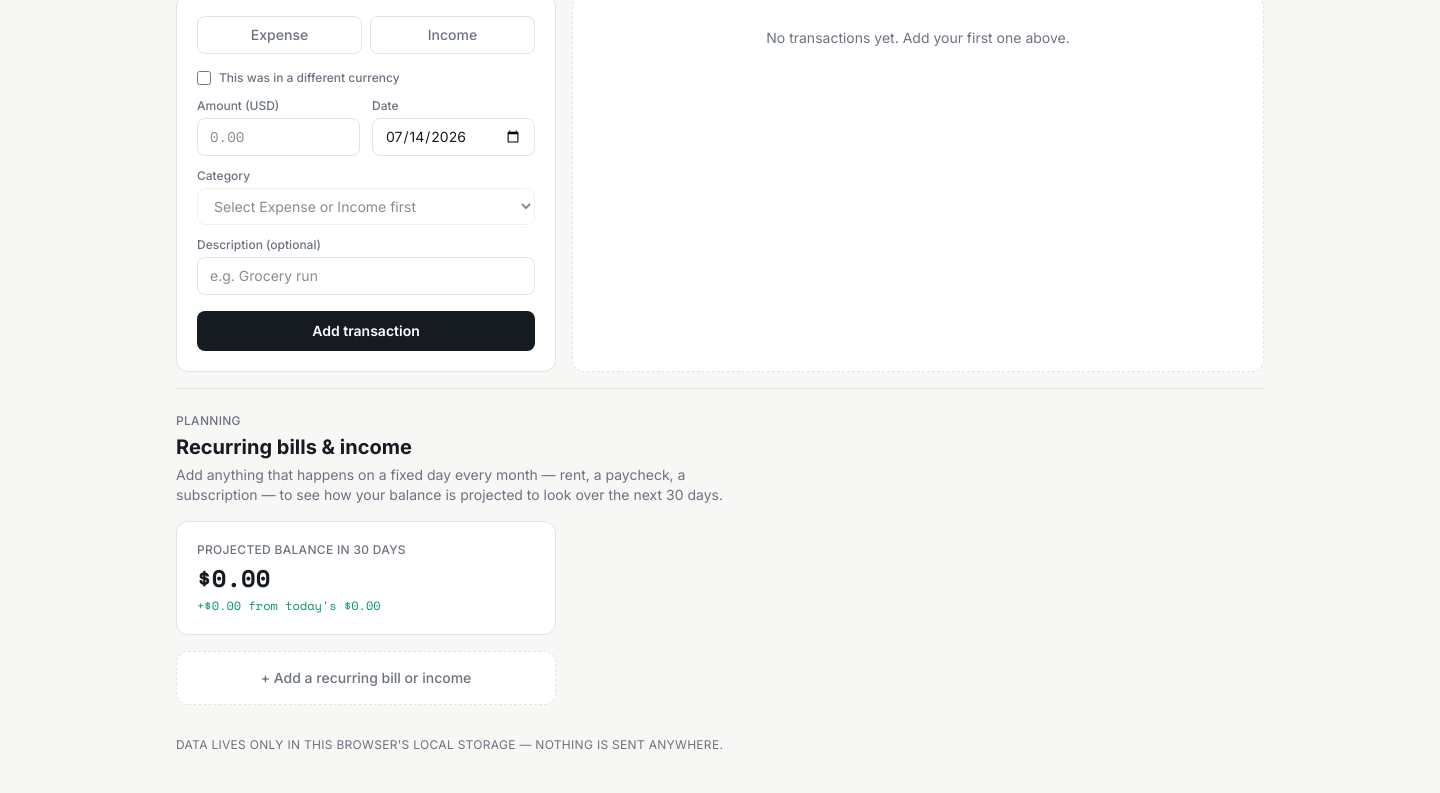
Test: App — planning › requires a type to be selected before adding a recurring item
(page scrolled)
Click the button "+ Add a recurring bill or income" at (366, 678), box [176,651,556,705]
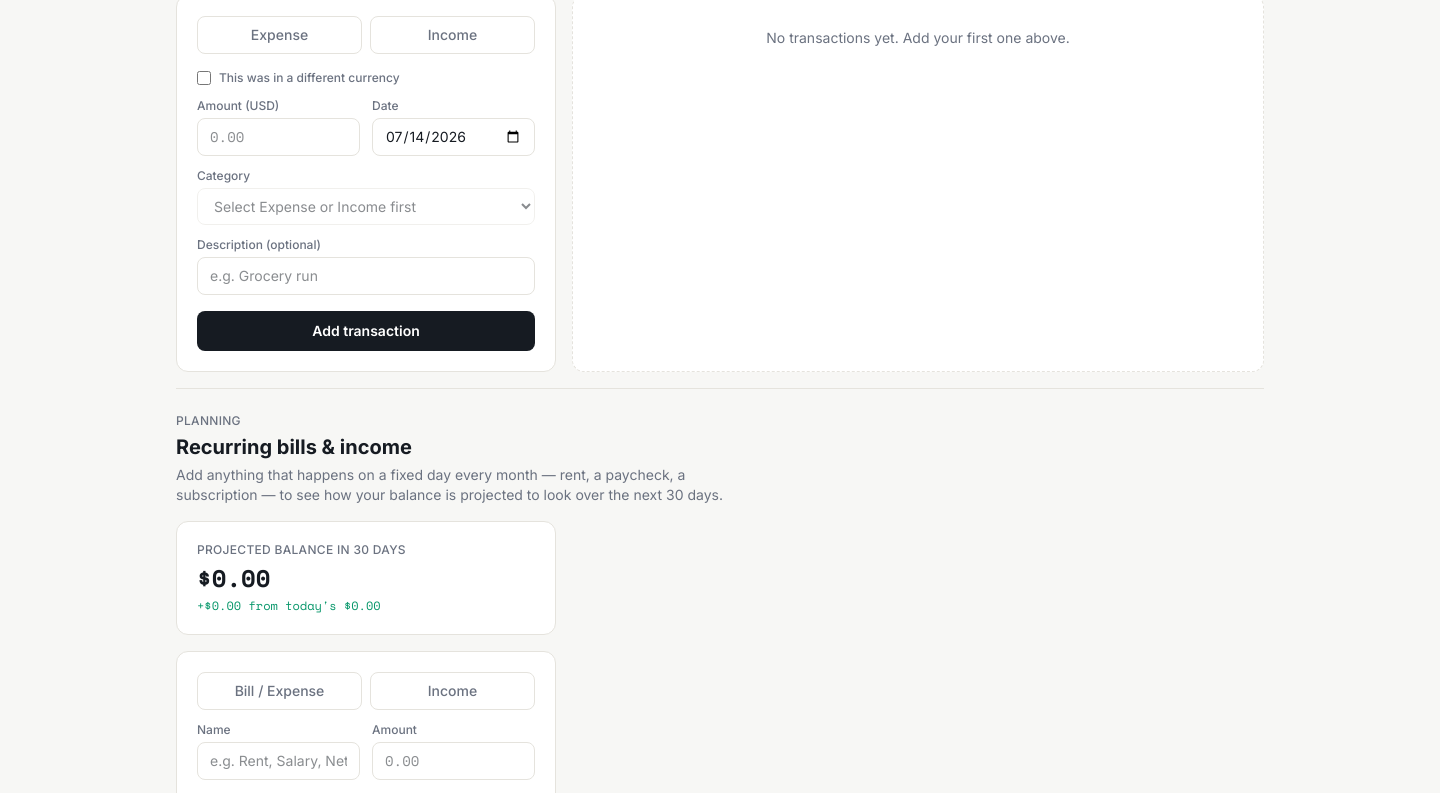
Type "50" into the number field labelled "Amount" at (454, 761), box [372,742,535,780]
(page scrolled)
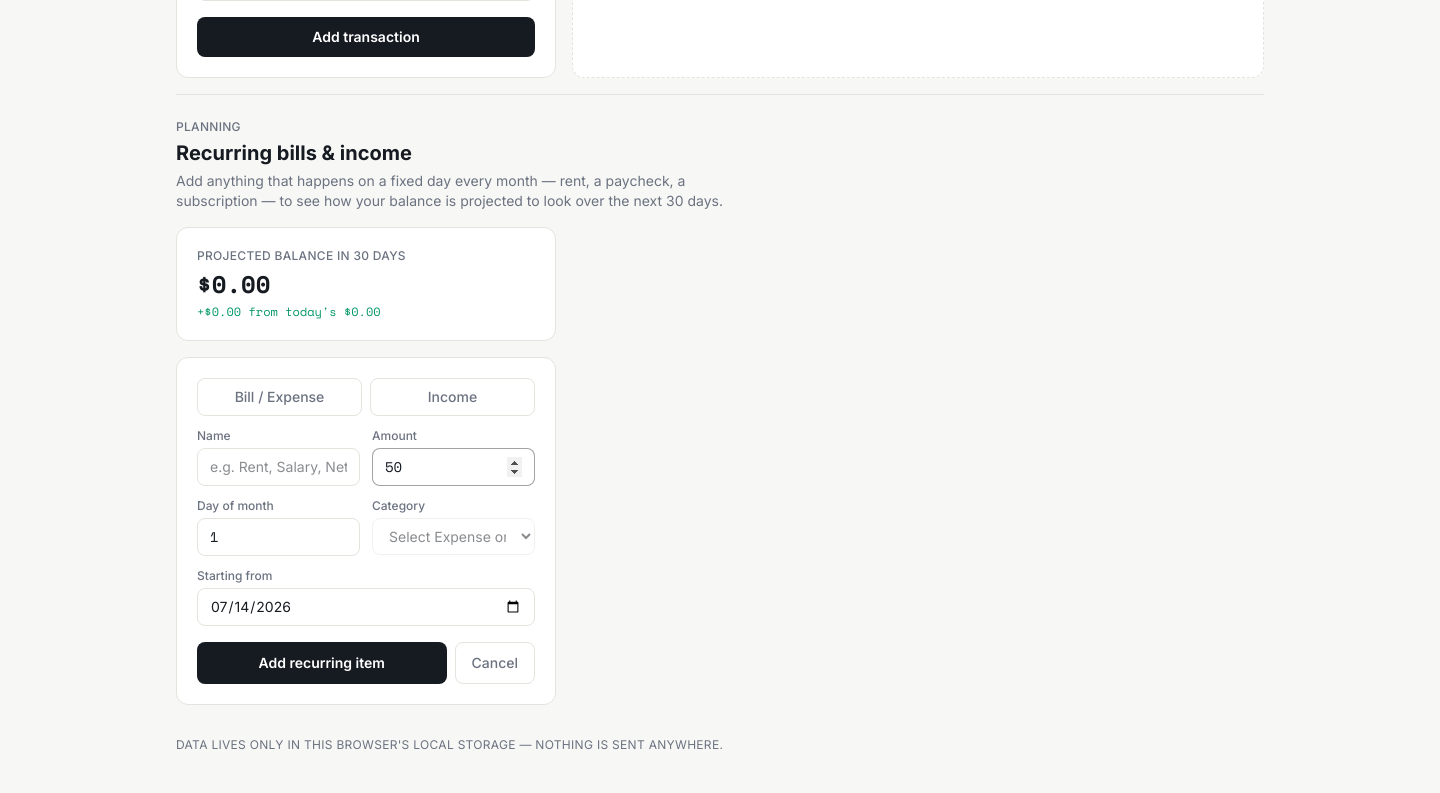
Click the button "Add recurring item" at (322, 663), box [197,642,446,684]
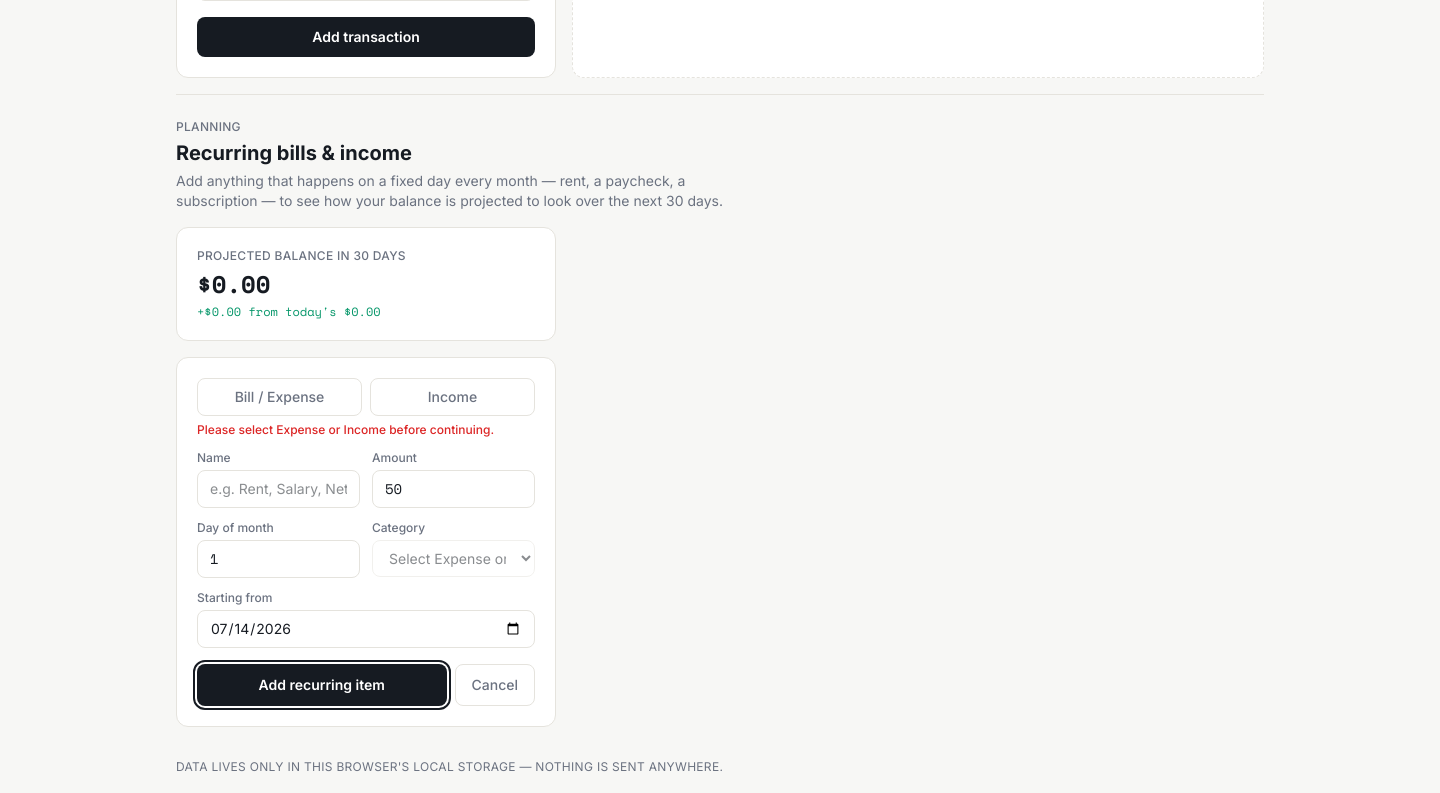
expect the text "Please select Expense or Income before continuing." is shown: met, box [197,422,535,438]
